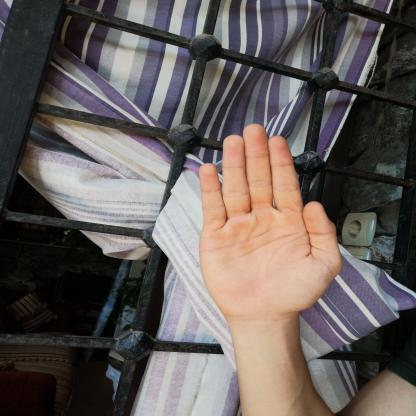SEEN: (187, 116, 350, 330)
